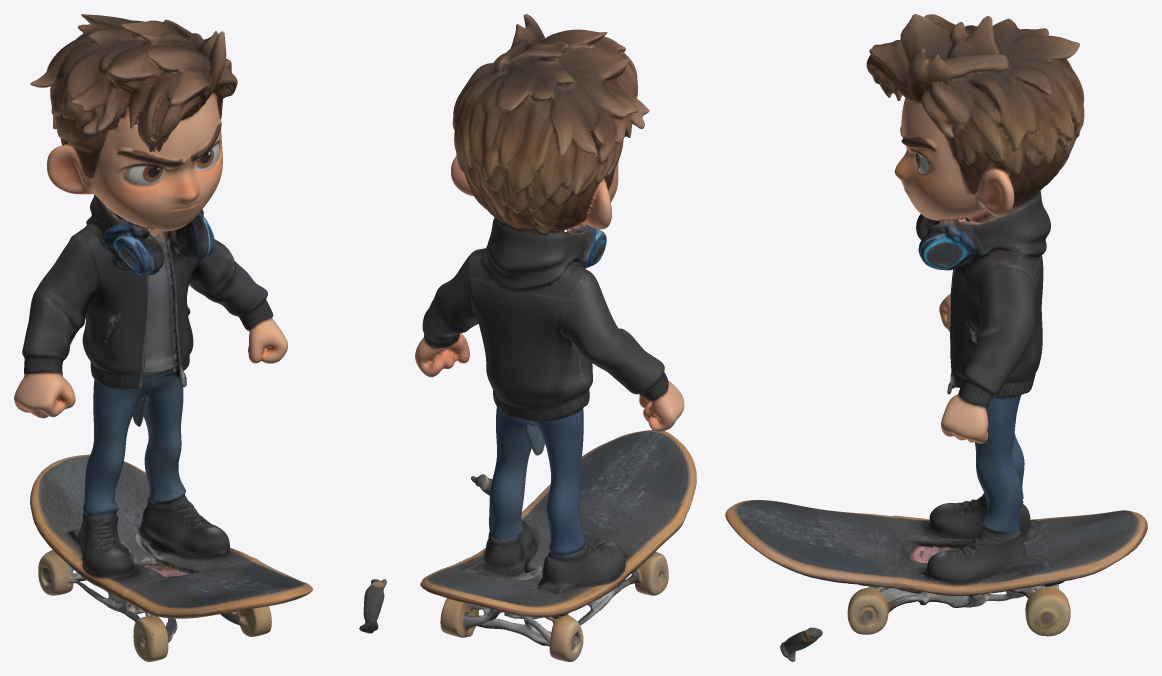
The model's file is player_game.glb.
3 views of the same model, side by side, from view 1: azimuth 30°, elevation 25°; view 2: azimuth 150°, elevation 25°; view 3: azimuth 270°, elevation 25° (orthographic).
Bounding box in the file's own units: 1.04 × 2 × 1.32.
Materials: 1 (1 with a texture image).
